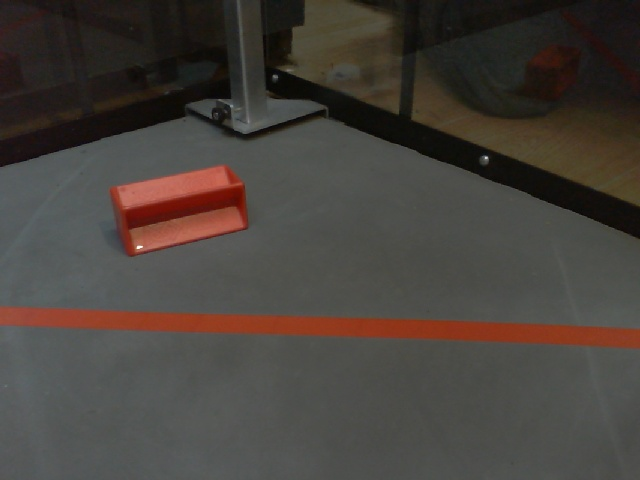RedSample: (107, 164, 252, 259)
